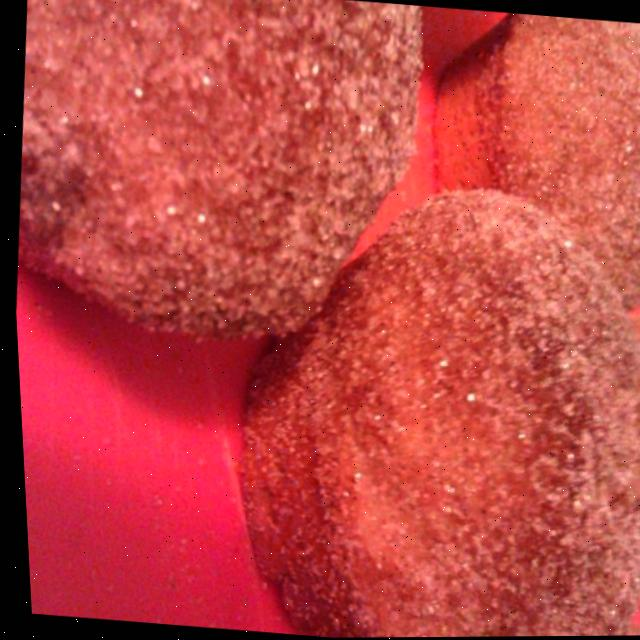炸货点心: (181, 158, 640, 639)
面包点心: (181, 158, 640, 639)
